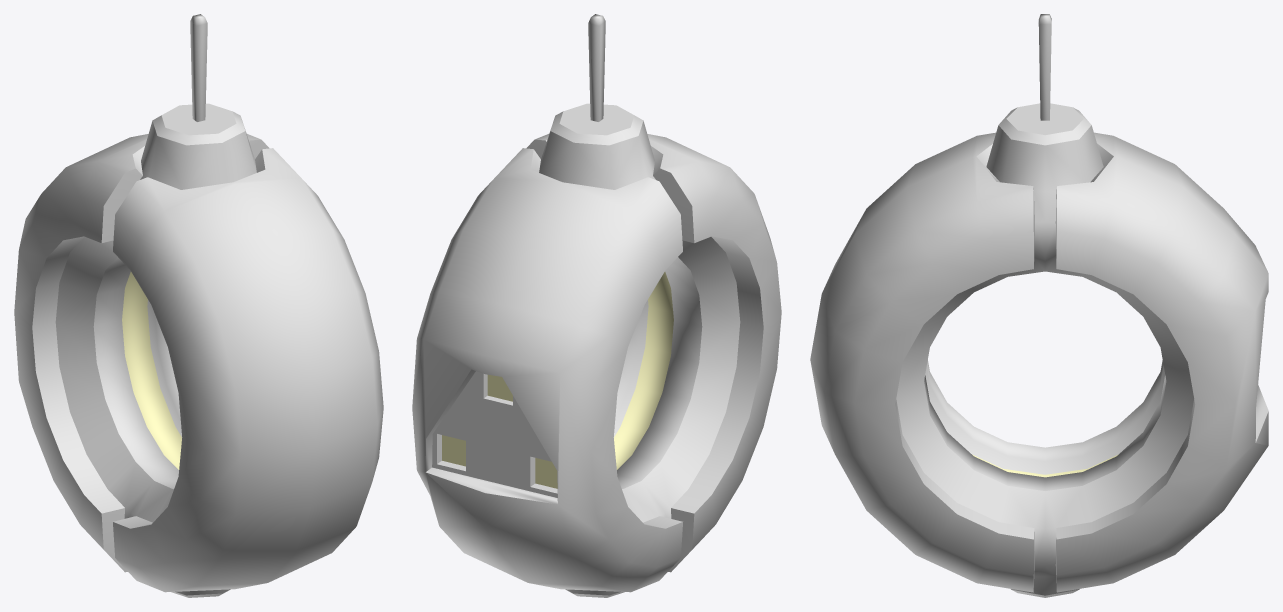
The model's file is dronut.fbx.
The picture shows the model from 3 angles, left to right: view 1: azimuth 30°, elevation 25°; view 2: azimuth 150°, elevation 25°; view 3: azimuth 270°, elevation 25°; orthographic projection.
Parts seen in each view (by area): view 1: Torus.001, Cube; view 2: Torus.001, Cube; view 3: Torus.001, Cube.
Boxes of the visible parts, x1=… form: Torus.001: x1=14, y1=103, x2=383, y2=597; Cube: x1=190, y1=14, x2=207, y2=121; Torus.001: x1=412, y1=103, x2=781, y2=597; Cube: x1=588, y1=14, x2=605, y2=121; Torus.001: x1=810, y1=103, x2=1268, y2=597; Cube: x1=1038, y1=14, x2=1051, y2=120.
Bounding box in the file's own units: 1.13 × 3.32 × 2.44.
